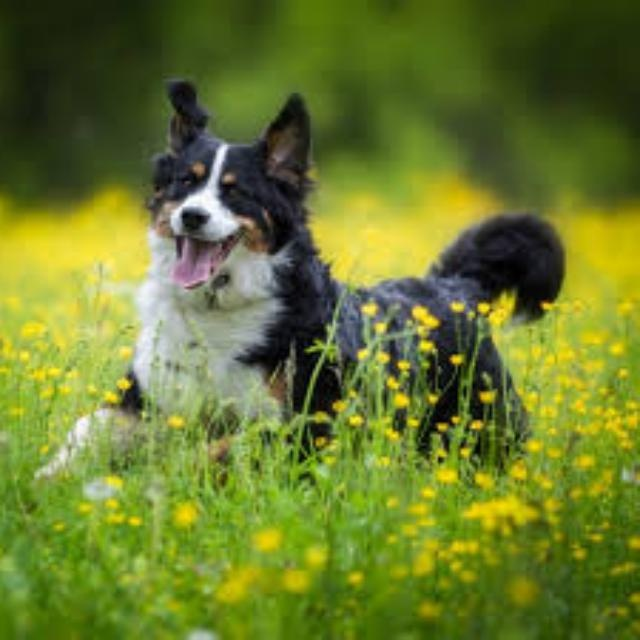dog: (125, 66, 345, 332)
